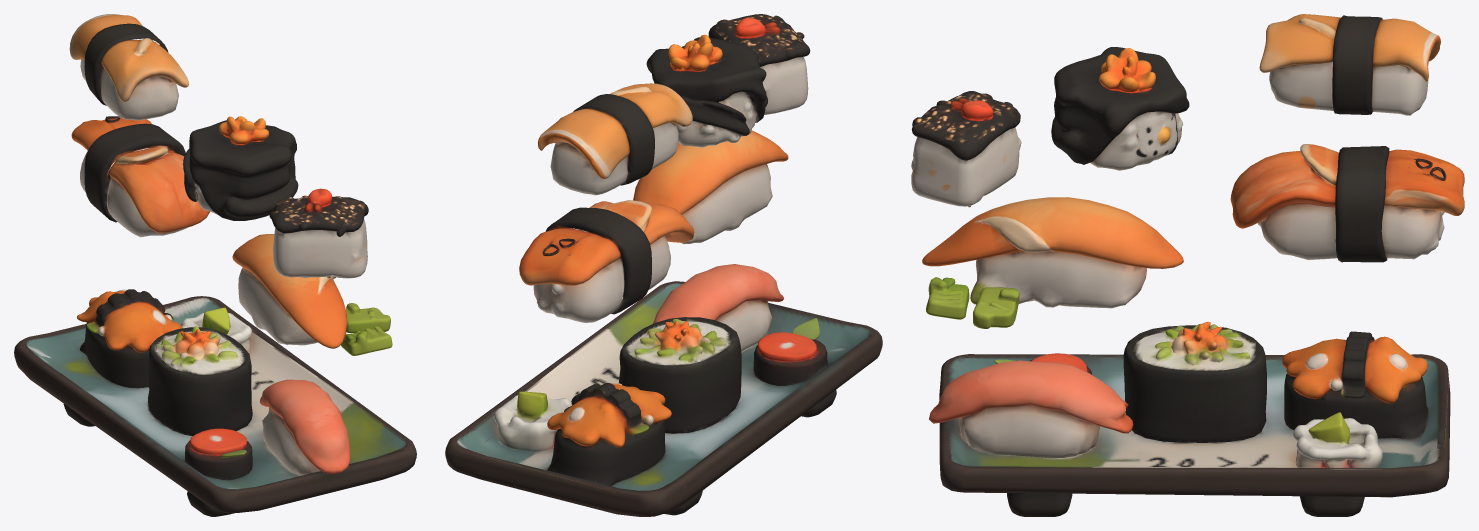
The model's file is sushi.glb.
3 renders of one model, left to right at view 1: azimuth 30°, elevation 25°; view 2: azimuth 150°, elevation 25°; view 3: azimuth 270°, elevation 25°, orthographic. The views are drawn at different scales.
Parts seen in each view (by area): view 1: tripo_node_8ad5b097-211f-4342-bf68-8e66a690f5e0; view 2: tripo_node_8ad5b097-211f-4342-bf68-8e66a690f5e0; view 3: tripo_node_8ad5b097-211f-4342-bf68-8e66a690f5e0.
Part boxes in pixels (bbox=[...]): tripo_node_8ad5b097-211f-4342-bf68-8e66a690f5e0: bbox=[14, 14, 416, 516]; tripo_node_8ad5b097-211f-4342-bf68-8e66a690f5e0: bbox=[445, 14, 882, 516]; tripo_node_8ad5b097-211f-4342-bf68-8e66a690f5e0: bbox=[911, 14, 1464, 516].
Size of the model in its own units: 0.5063 by 0.8755 by 0.9995.
1 material, 1 textured.
